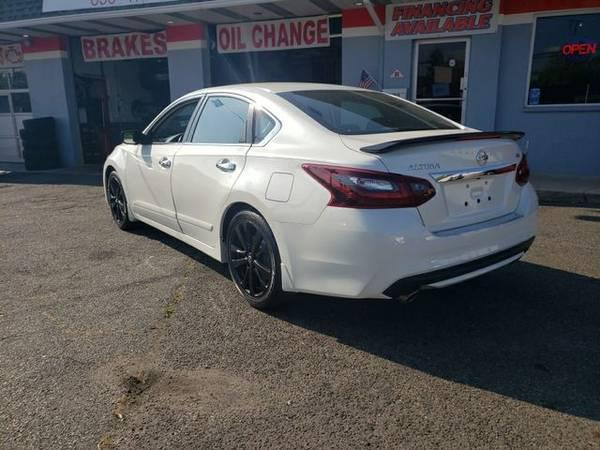Front_Fender: (104, 143, 131, 193)
Front_Left_Door: (125, 145, 184, 240)
Front_Left_Window: (134, 95, 206, 144)
Left_Taillight: (304, 163, 437, 209)
Rear_Bumper: (266, 180, 536, 299)
Rear_Fender: (229, 136, 385, 221)
Rear_Left_Door: (173, 142, 252, 261)
Rear_Left_Window: (186, 94, 281, 148)
Rear_Windshield: (281, 93, 469, 140)
Right_Taillight: (512, 152, 529, 186)
Roof: (183, 83, 376, 140)
Tailgate: (338, 130, 520, 231)
Wheel: (224, 211, 279, 307), (108, 173, 128, 229)
